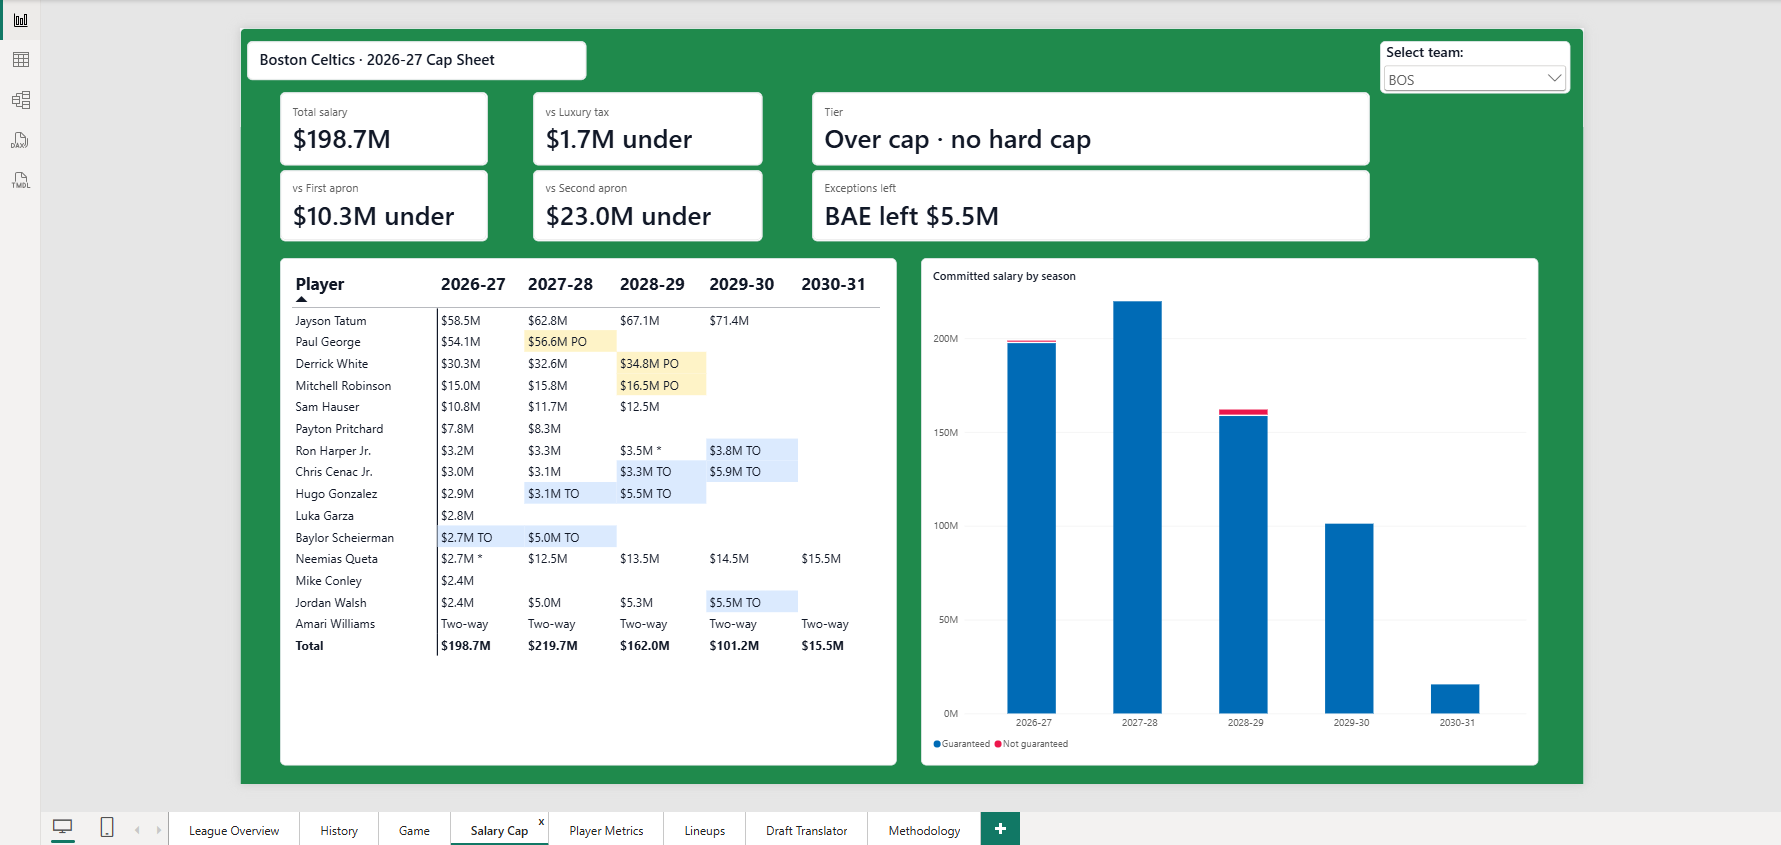

The dashboard page shown, as its layout file describes it:
{"tool":"powerbi","page":{"name":"Salary Cap","canvas":[1750,1900],"ordinal":3},"visuals":[{"type":"textbox","box":[10,0,520,55],"z":0},{"type":"cardVisual","fields":{"Data":["CapSummary.Total Salary"]},"box":[10.5,92.1,234.5,92.1],"z":1000},{"type":"cardVisual","fields":{"Data":["CapSummary.Tax Line"]},"box":[285.4,92.1,249.1,92.1],"z":2000},{"type":"cardVisual","fields":{"Data":["CapSummary.First Apron"]},"box":[575,92.1,259.6,92.1],"z":3000},{"type":"cardVisual","fields":{"Data":["CapSummary.Exceptions Left"]},"box":[10,205,745,112.5],"z":4000},{"type":"cardVisual","fields":{"Data":["CapSummary.Second Apron"]},"box":[875.1,92.1,274.3,92.1],"z":5000},{"type":"cardVisual","fields":{"Data":["CapSummary.Cap Tier"]},"box":[800,205,857.5,112.5],"z":6000},{"type":"pivotTable","fields":{"Columns":["Contracts.season"],"Rows":["Contracts.player_name"],"Values":["Contracts.Salary Cell"]},"box":[10.5,343.3,881.4,736.9],"z":7000},{"type":"textbox","box":[10.5,1080.3,563.2,35.6],"z":8000},{"type":"columnChart","title":"Committed salary by season","fields":{"Category":["Commitments.season"],"Y":["Sum(Commitments.guaranteed)","Sum(Commitments.non_guaranteed)"]},"box":[921.2,343.3,793.5,736.9],"z":9000},{"type":"scatterChart","title":"Salary vs impact (RAPM)","fields":{"Category":["PlayerValue.player_name"],"X":["Sum(PlayerValue.salary)"],"Y":["Avg(PlayerValue.rapm)"]},"box":[9.8,1115.7,1705.9,784.3],"z":10000}]}

Visuals, with their boxes on the page's 1750x1900 design canvas (x1, y1, x2, y2). These are canvas units, not pixel positions in the 1781x845 screenshot, which may show the page scaled, cropped or inside an application window:
textbox: x1=10, y1=0, x2=530, y2=55
cardVisual - CapSummary.Total Salary: x1=10, y1=92, x2=245, y2=184
cardVisual - CapSummary.Tax Line: x1=285, y1=92, x2=534, y2=184
cardVisual - CapSummary.First Apron: x1=575, y1=92, x2=835, y2=184
cardVisual - CapSummary.Exceptions Left: x1=10, y1=205, x2=755, y2=318
cardVisual - CapSummary.Second Apron: x1=875, y1=92, x2=1149, y2=184
cardVisual - CapSummary.Cap Tier: x1=800, y1=205, x2=1658, y2=318
pivotTable - Contracts.season x Contracts.player_name: x1=10, y1=343, x2=892, y2=1080
textbox: x1=10, y1=1080, x2=574, y2=1116
"Committed salary by season" columnChart: x1=921, y1=343, x2=1715, y2=1080
"Salary vs impact (RAPM)" scatterChart: x1=10, y1=1116, x2=1716, y2=1900
